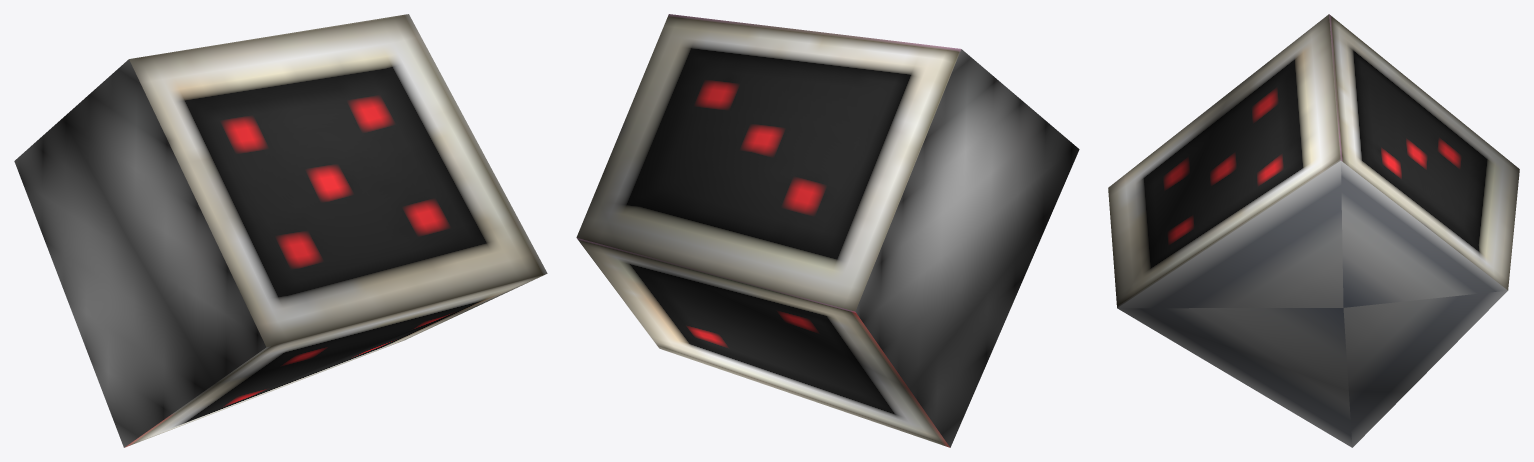
Rendered from sfx_weapon_glorb_A1007_L.glb.
The picture shows the model from 3 angles, left to right: view 1: azimuth 30°, elevation 25°; view 2: azimuth 150°, elevation 25°; view 3: azimuth 270°, elevation 25°; orthographic projection. The views are drawn at different scales.
Visible parts, largest first — view 1: sfx_weapon_glorb_A1007_L_obj1; view 2: sfx_weapon_glorb_A1007_L_obj1; view 3: sfx_weapon_glorb_A1007_L_obj1.
Boxes of the visible parts, left/top/right/bottom form: sfx_weapon_glorb_A1007_L_obj1: left=14, top=14, right=547, bottom=447; sfx_weapon_glorb_A1007_L_obj1: left=576, top=14, right=1079, bottom=447; sfx_weapon_glorb_A1007_L_obj1: left=1108, top=14, right=1519, bottom=447.
Bounding box in the file's own units: 0.152 × 0.1916 × 0.2095.
1 material, 1 textured.
